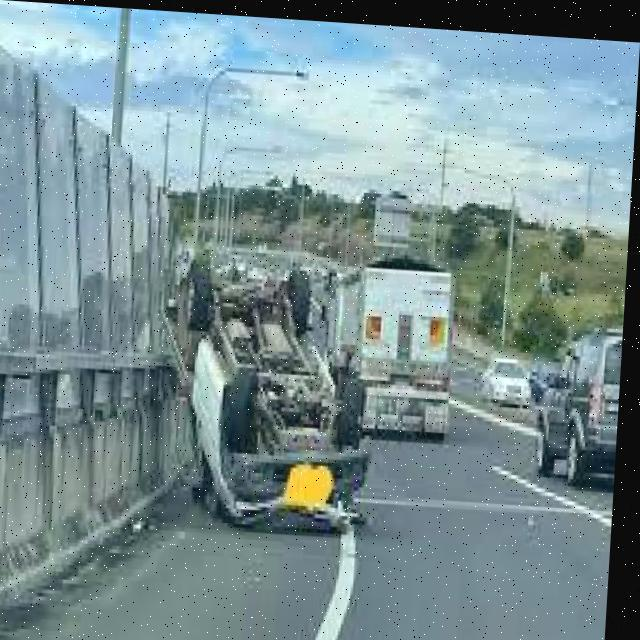single accident: (143, 187, 402, 582)
